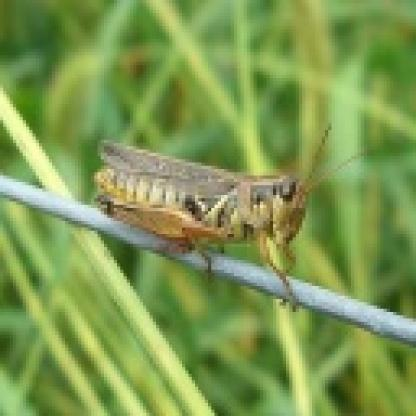grasshopper: (82, 123, 335, 294)
